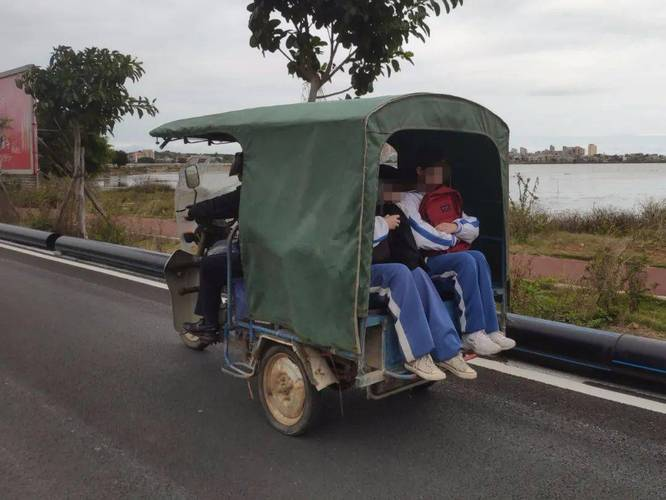driver: (180, 152, 255, 346)
overloading: (144, 102, 524, 433)
passenger: (398, 150, 516, 353), (337, 148, 436, 380)
